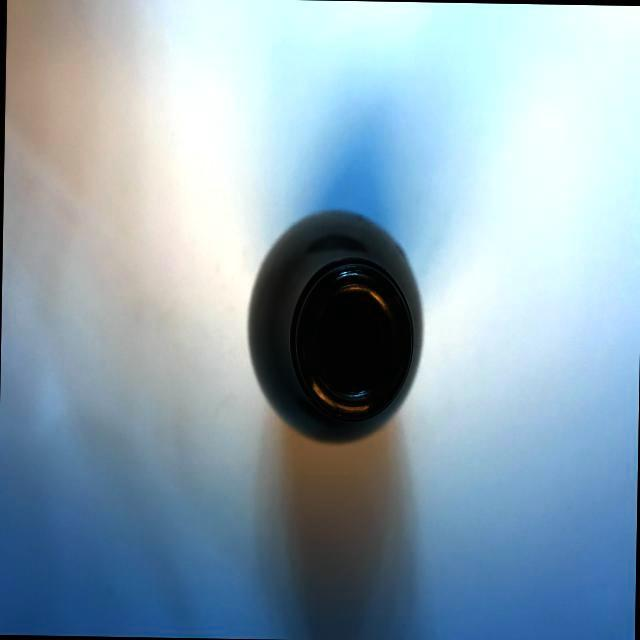glass: (222, 192, 445, 462)
